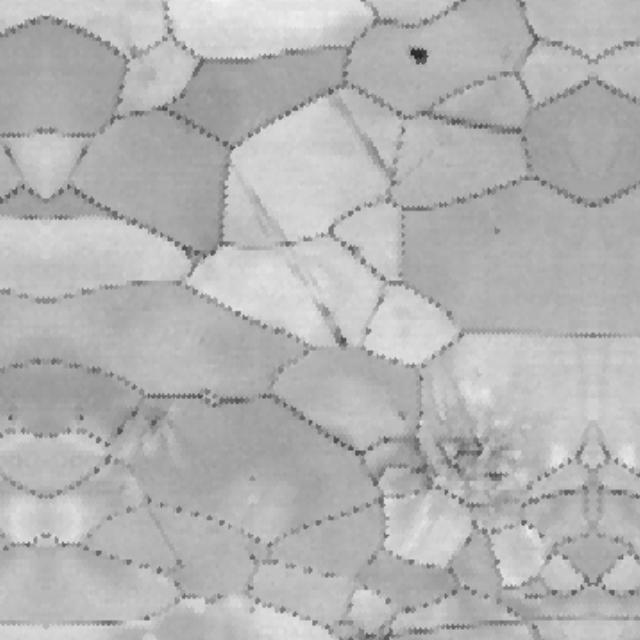good_void: (406, 412, 521, 497), (312, 295, 359, 359), (393, 32, 444, 76), (138, 404, 177, 443), (232, 462, 264, 494), (386, 397, 418, 428), (70, 403, 99, 429), (0, 405, 23, 430), (493, 224, 506, 238)
